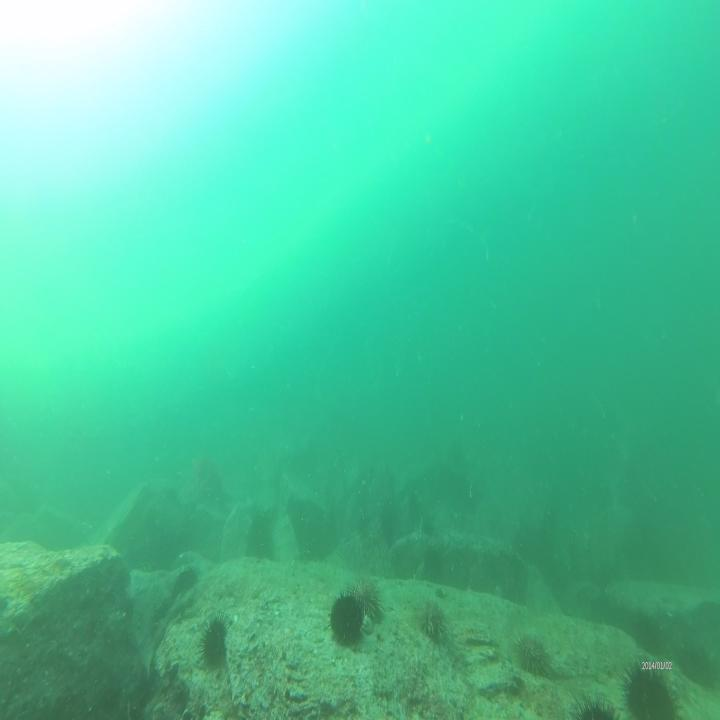echinus: (626, 655, 672, 719), (329, 590, 362, 650), (199, 612, 229, 668), (417, 596, 450, 644), (519, 629, 551, 678), (354, 575, 384, 627), (172, 567, 198, 601)
